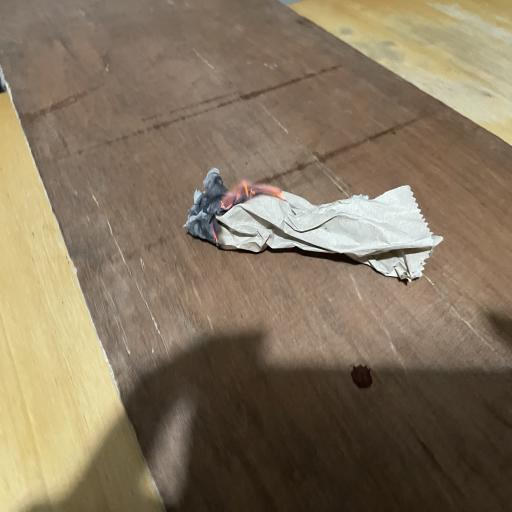fire: (191, 157, 285, 214)
